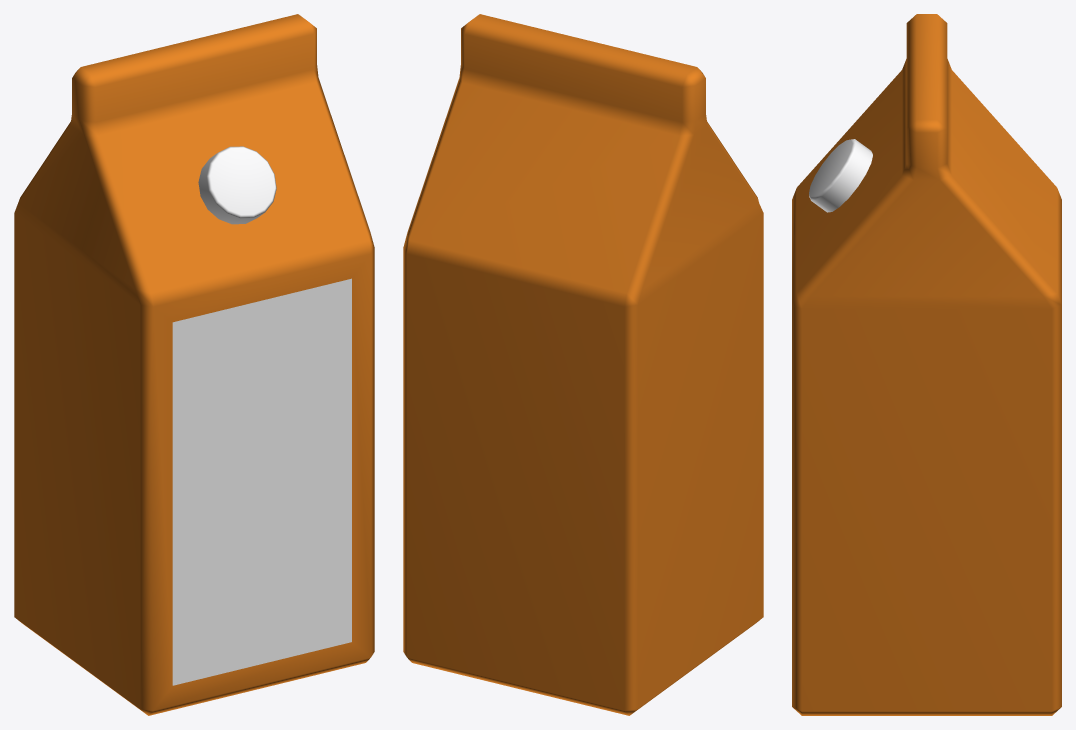
File: Carton_Box_1.fbx
The picture shows the model from 3 angles, left to right: view 1: azimuth 30°, elevation 25°; view 2: azimuth 150°, elevation 25°; view 3: azimuth 270°, elevation 25°; orthographic projection.
Visible parts, largest first — view 1: Carton_Box_1; view 2: Carton_Box_1; view 3: Carton_Box_1.
Boxes of the visible parts, bbox=[...] form: Carton_Box_1: bbox=[14, 14, 374, 715]; Carton_Box_1: bbox=[403, 14, 763, 715]; Carton_Box_1: bbox=[792, 14, 1061, 715].
Bounding box in the file's own units: 15.49 × 37.77 × 15.49.
